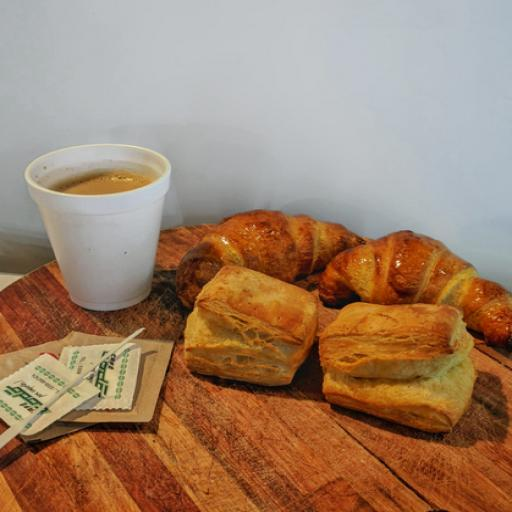bolleria: (319, 232, 511, 348), (319, 303, 476, 432), (176, 211, 365, 308), (185, 266, 317, 385)
